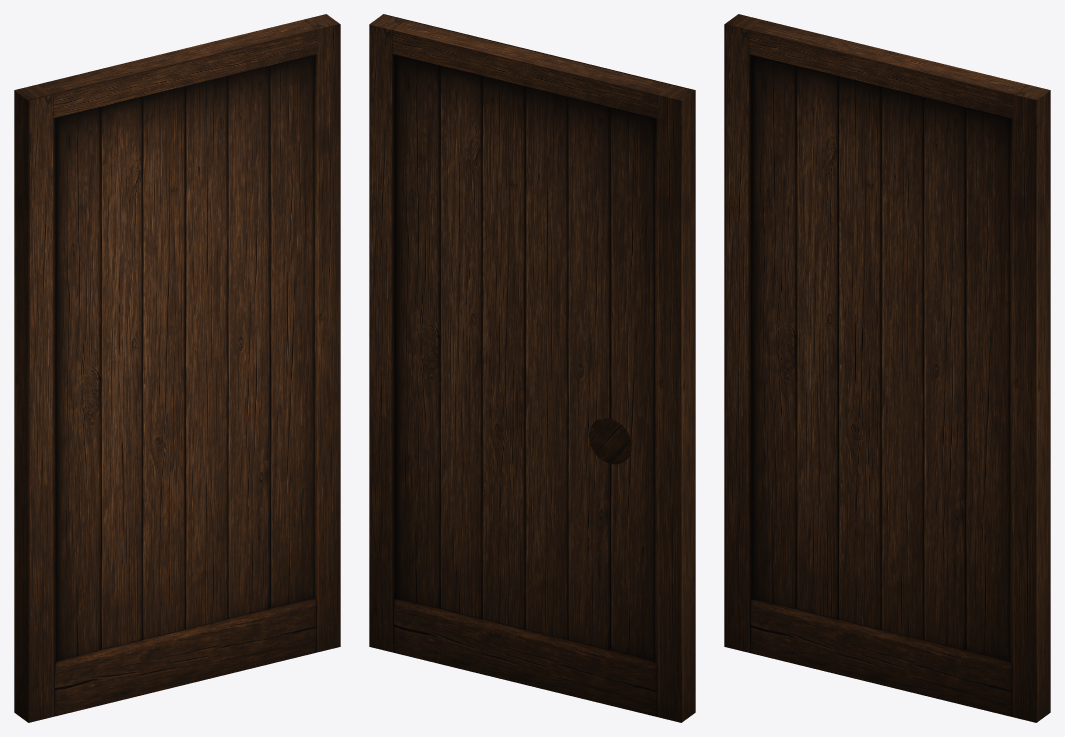
The model's file is door.glb.
The picture shows the model from 3 angles, left to right: view 1: azimuth 30°, elevation 25°; view 2: azimuth 150°, elevation 25°; view 3: azimuth 330°, elevation 25°; orthographic projection.
Visible parts, largest first — view 1: floor; view 2: floor, Circle; view 3: floor.
Boxes of the visible parts, <box> form: floor: <box>14,14,340,722</box>; floor: <box>369,14,695,722</box>; Circle: <box>588,418,631,464</box>; floor: <box>724,14,1050,722</box>.
Bounding box in the file's own units: 1.31 × 2.49 × 0.1208.
Materials: 1 (1 with a texture image).
